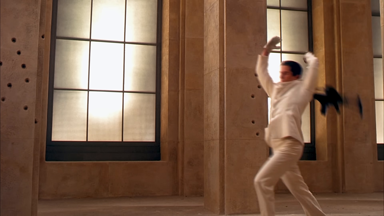firearm: (311, 83, 366, 123)
